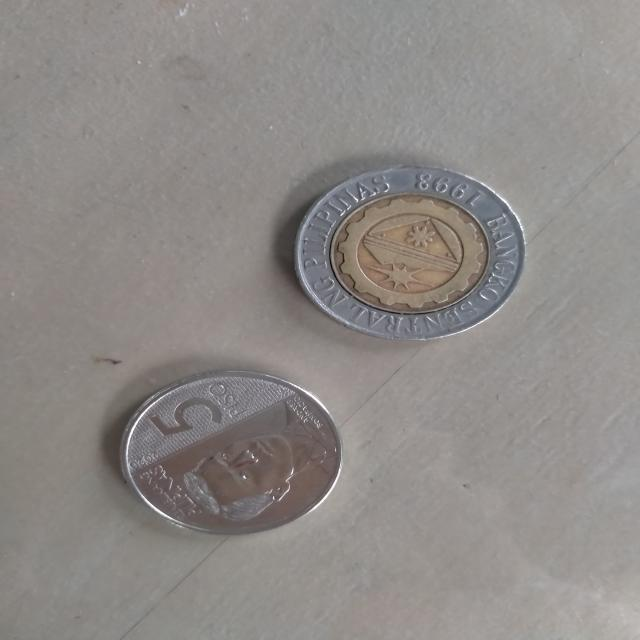10_Old_Back: (298, 165, 528, 339)
5_New_Front: (136, 380, 252, 445)
